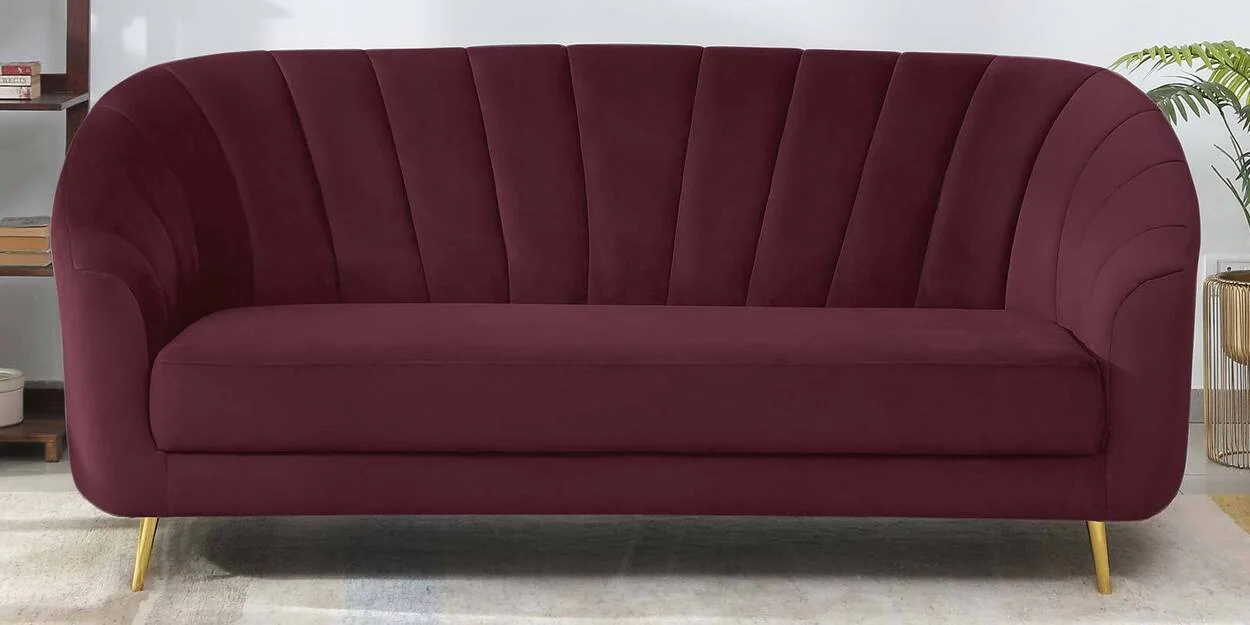3seatersofa: (51, 45, 1198, 591)
backrest: (175, 46, 1093, 309), (136, 63, 190, 109)
base: (156, 449, 1091, 519)
leftarmrest: (1006, 69, 1199, 527)
leg: (132, 517, 158, 591), (1088, 521, 1109, 594)
rightarmrest: (51, 61, 210, 514)
seat: (150, 304, 1108, 455)
